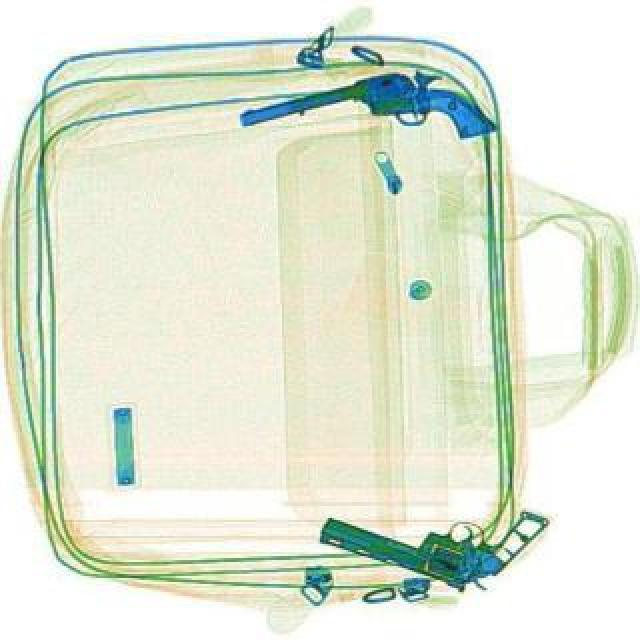gun: (312, 452, 548, 608), (234, 48, 496, 188)
